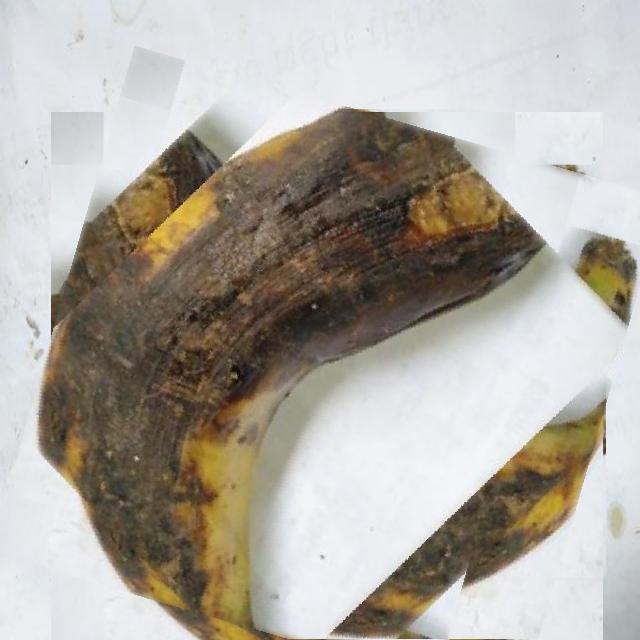Podre: (20, 79, 634, 640)
